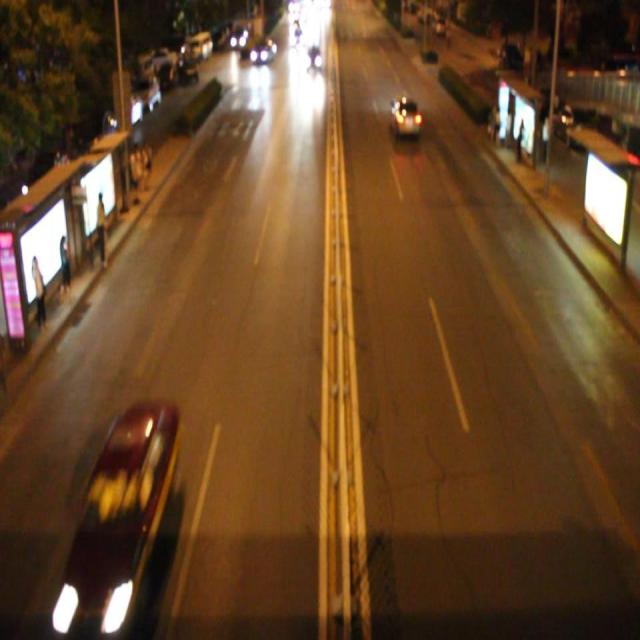car: (58, 404, 180, 625), (388, 93, 421, 137)
